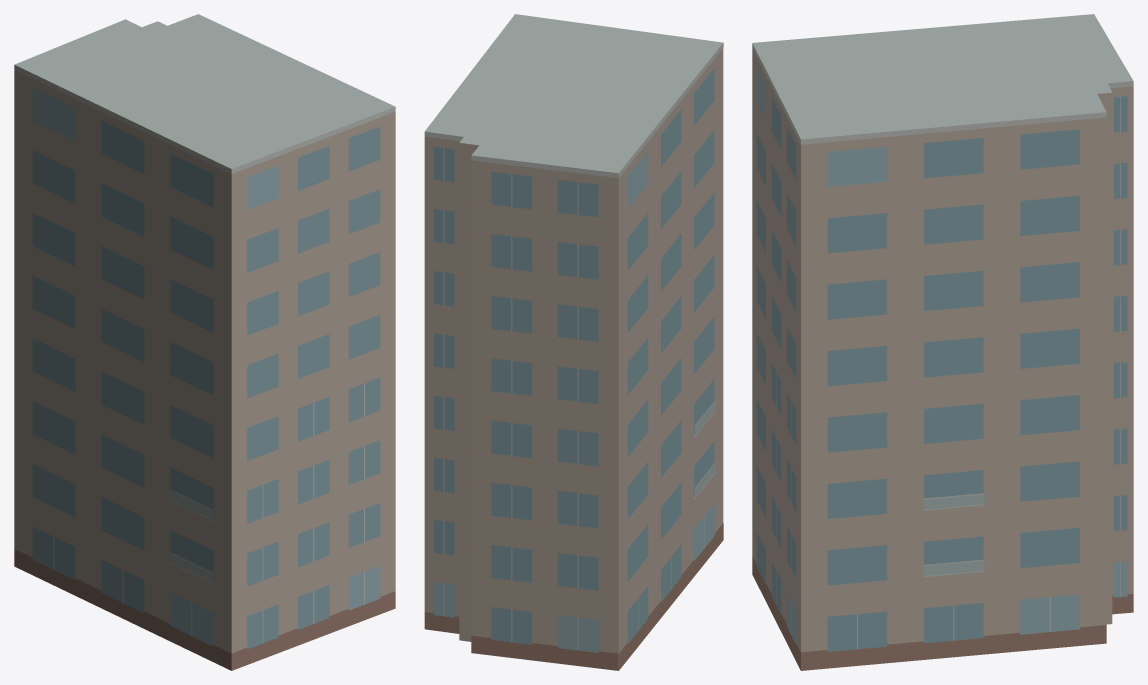
File: survey-upis-32602691.glb
3 renders of one model, left to right at view 1: azimuth 30°, elevation 25°; view 2: azimuth 150°, elevation 25°; view 3: azimuth 270°, elevation 25°, orthographic. The views are drawn at different scales.
Parts seen in each view (by area): view 1: survey-upis-32602691.tmp; view 2: survey-upis-32602691.tmp; view 3: survey-upis-32602691.tmp.
Boxes of the visible parts, left/top/right/bottom form: survey-upis-32602691.tmp: left=14, top=14, right=395, bottom=670; survey-upis-32602691.tmp: left=424, top=14, right=723, bottom=670; survey-upis-32602691.tmp: left=752, top=14, right=1133, bottom=670.
Bounding box in the file's own units: 12.52 × 24.7 × 16.08.
